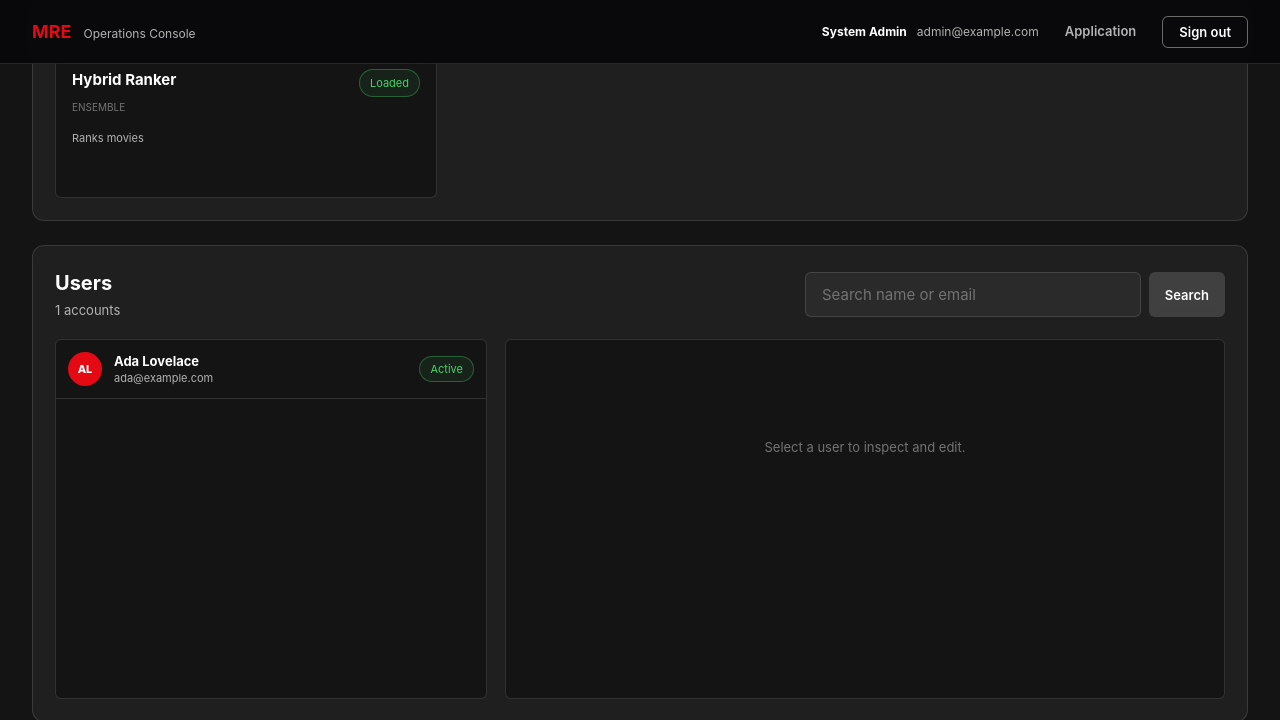
it: loads users and opens the attribute editor
(page scrolled)
What coordinates should you click on to do the following:
click the text "Ada Lovelace"
I would click on:
 (157, 360)
Its box is [114,352,199,368].
(page scrolled)
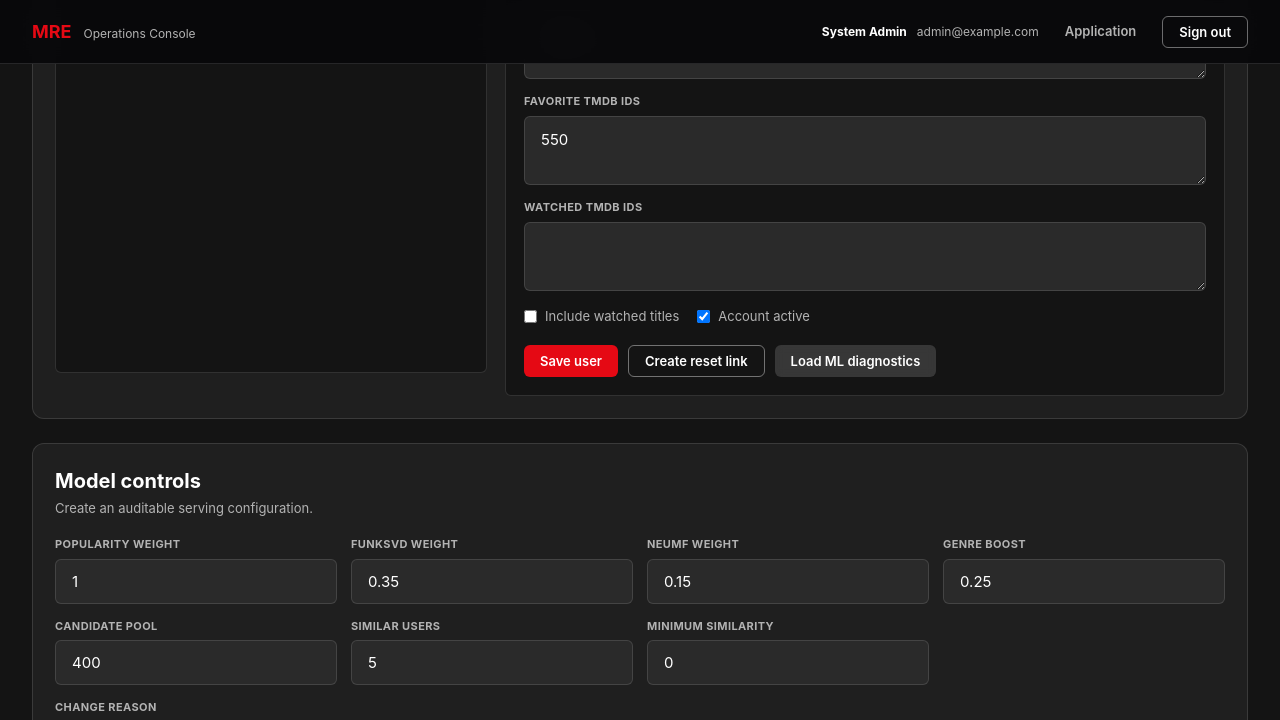
Check: the button "Create reset link" is shown, box [628,344,765,376]
Check: the button "Load ML diagnostics" is shown, box [775,344,936,376]
